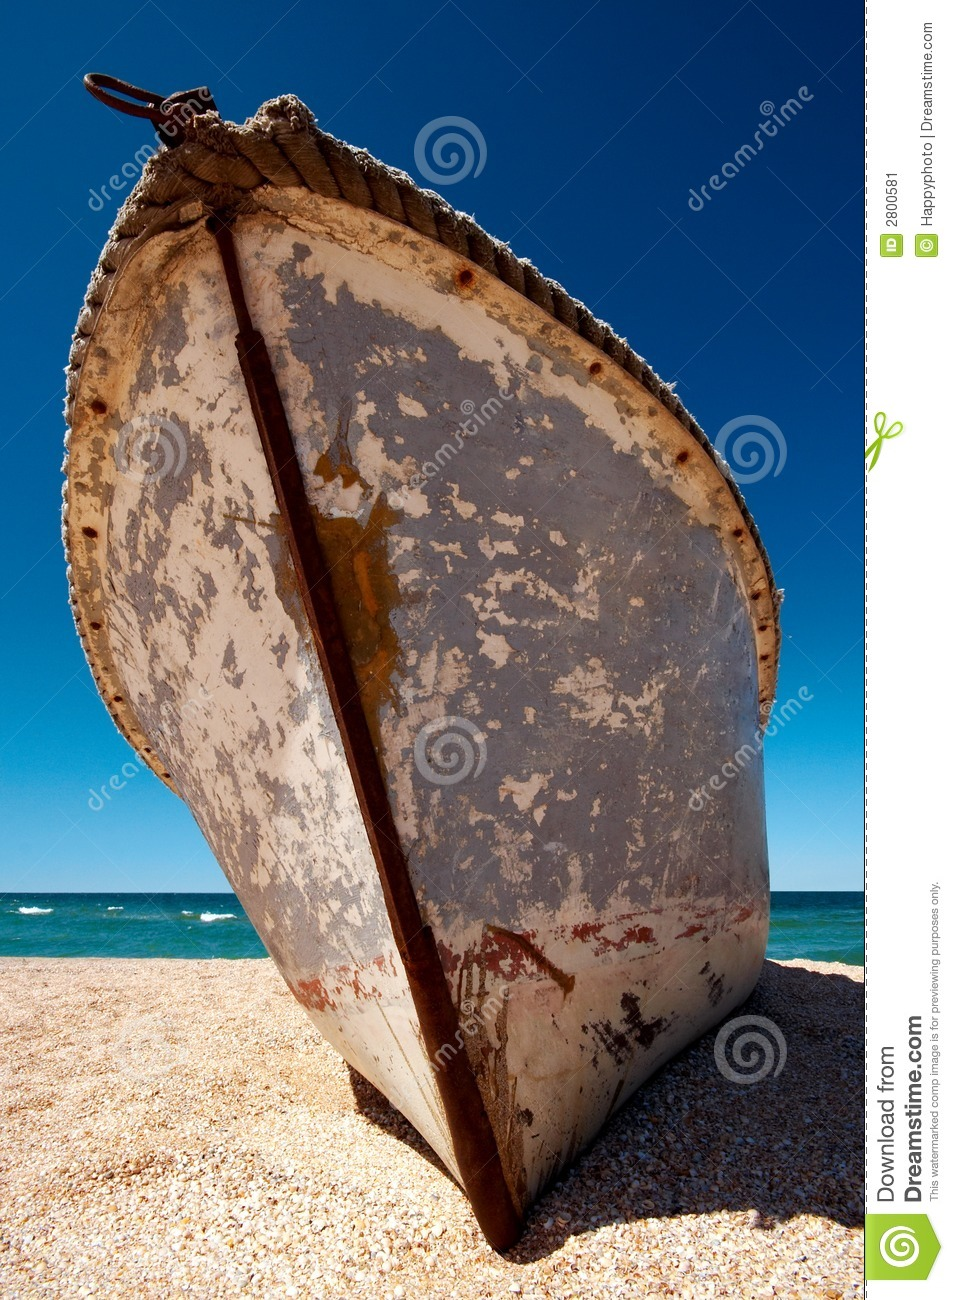rust: (235, 335, 392, 703), (408, 943, 531, 1228)
